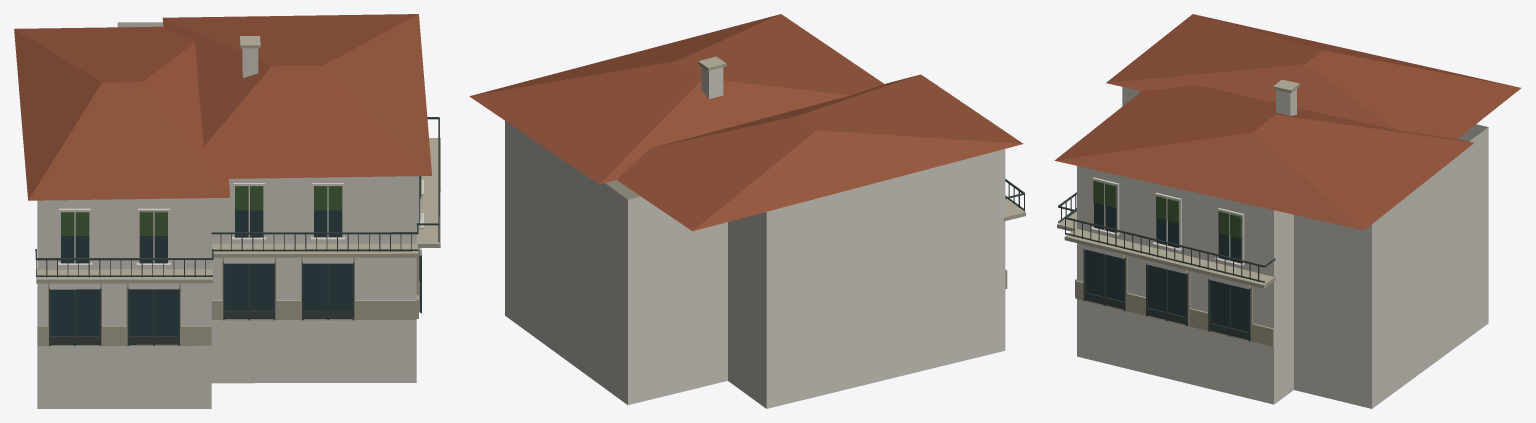
The model's file is casa-angolo.glb.
3 views of the same model, side by side, from view 1: azimuth 30°, elevation 25°; view 2: azimuth 150°, elevation 25°; view 3: azimuth 270°, elevation 25° (orthographic). The views are drawn at different scales.
Bounding box in the file's own units: 23.78 × 12.72 × 21.7.
